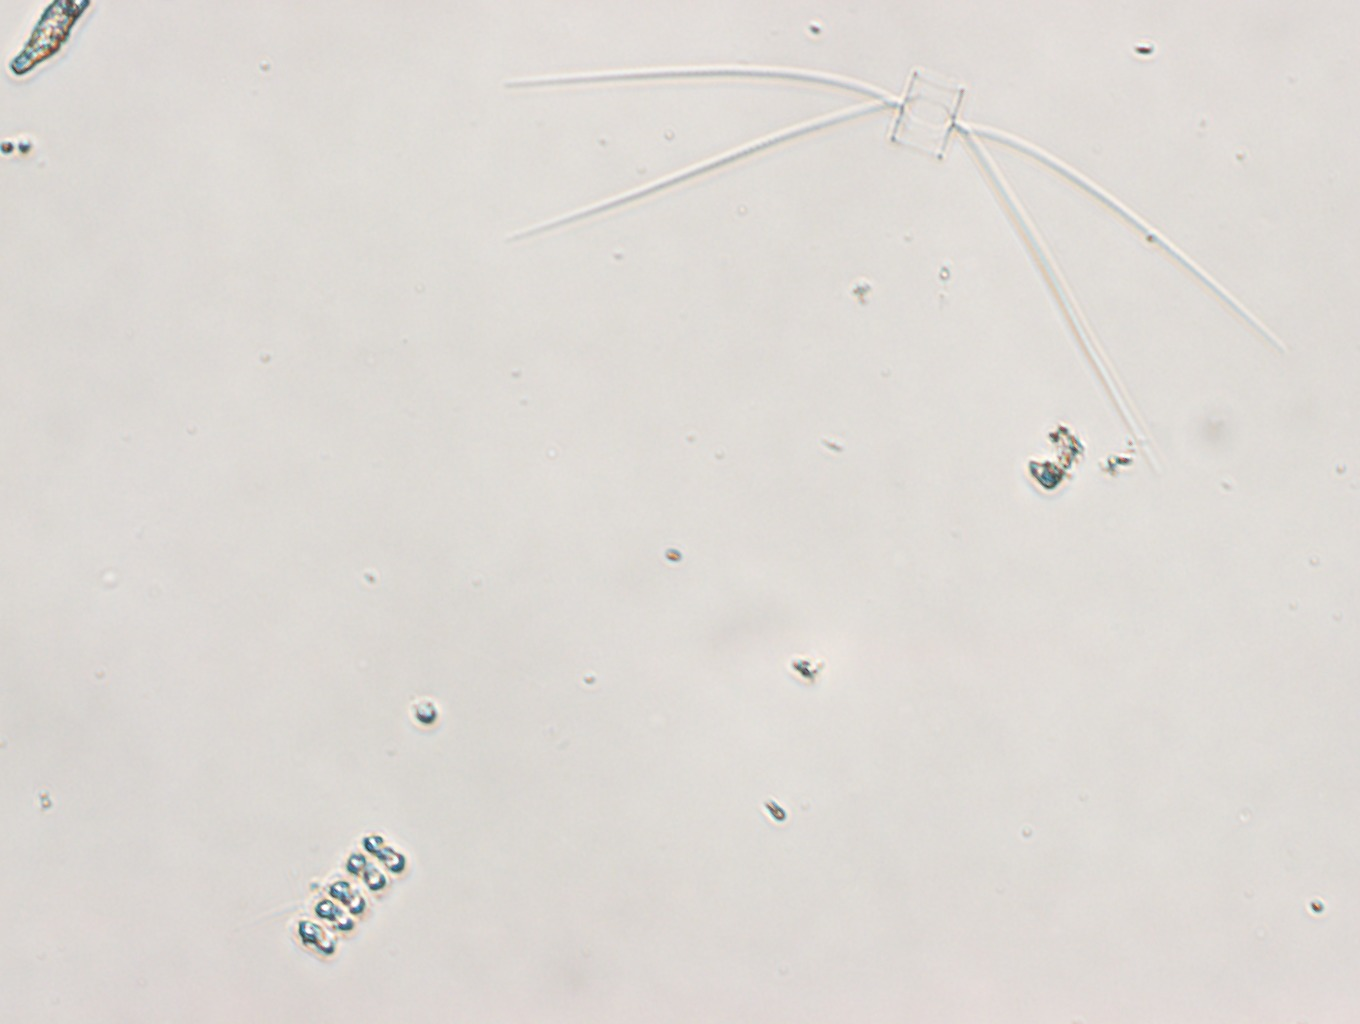chaetoceros: (503, 62, 1289, 477), (266, 831, 411, 961)
